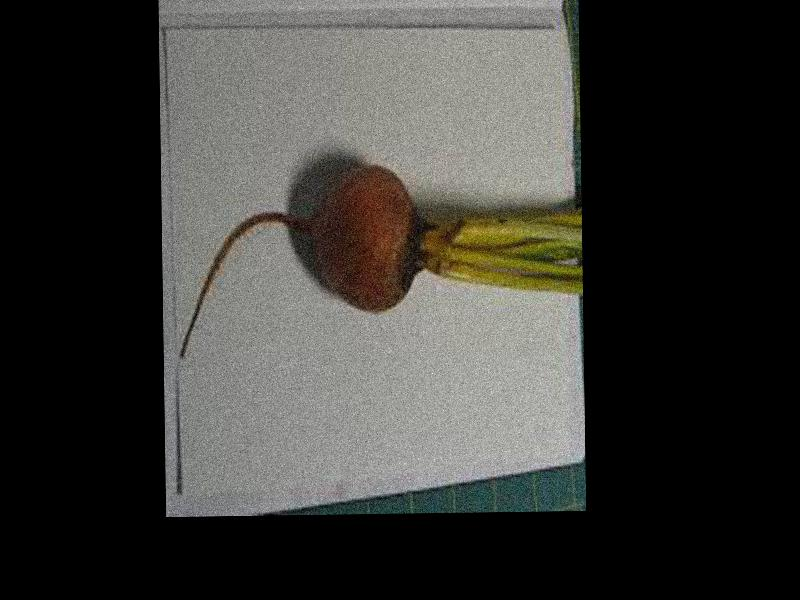Beet: (177, 163, 579, 356)
